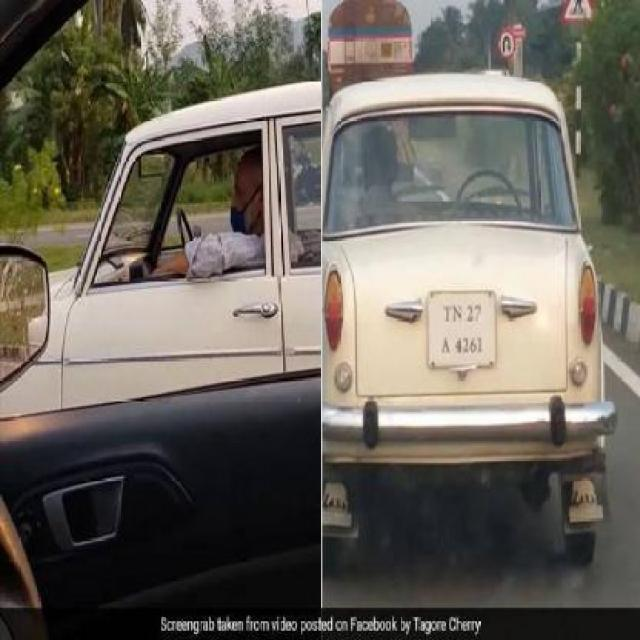vehicle: (320, 54, 608, 556)
